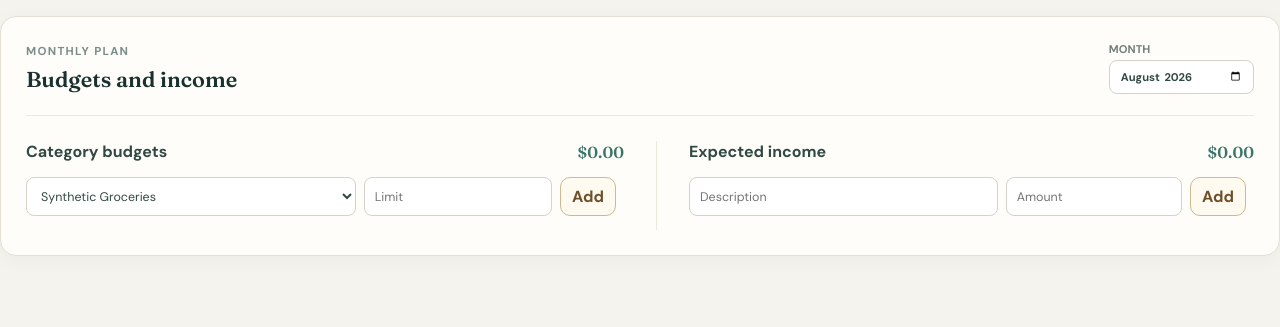
Test: MonthlyPlanManager › creates a category budget and refreshes the month
Step 1. Type "450.00" into the number field named "Budget limit" → (458, 196), box [364,177,552,216]
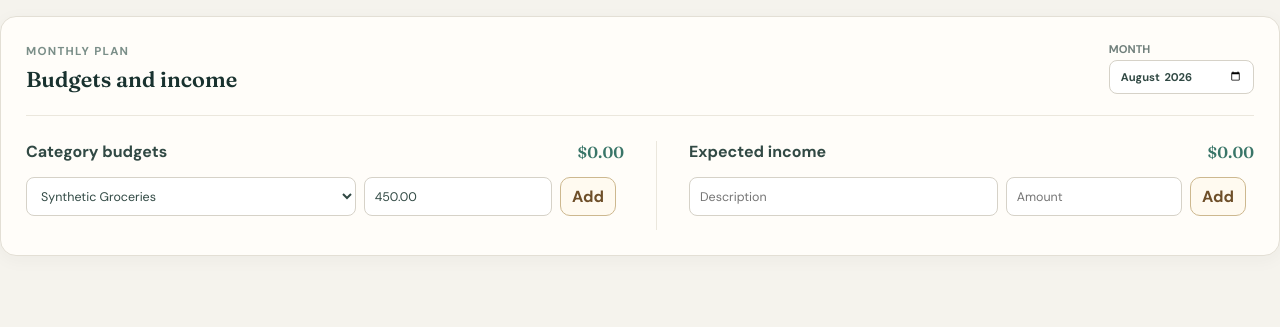
Step 2. Click the 1st button "Add" → (588, 196), box [560,177,616,216]
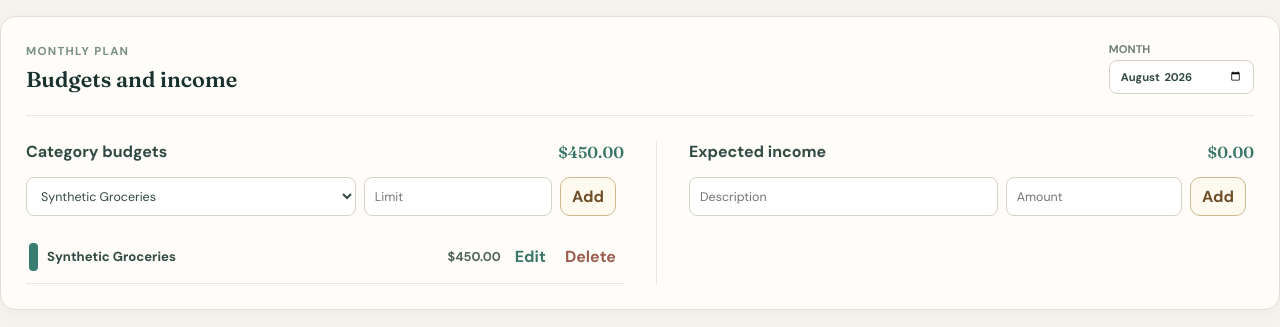
Expected: the text "$450.00" is shown 2 times, [558,142,624,162]; [448,248,501,265]
